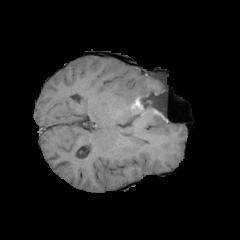glioma: (112, 85, 168, 137)
